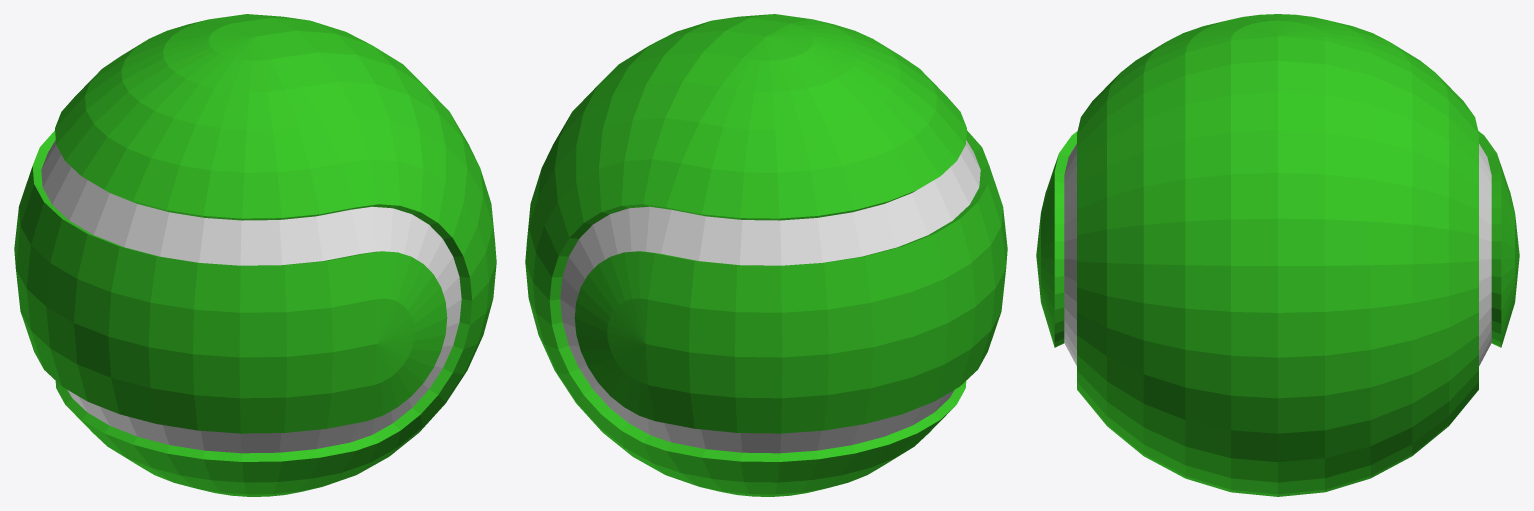
The model's file is Tennis_Ball4.fbx.
The picture shows the model from 3 angles, left to right: view 1: azimuth 30°, elevation 25°; view 2: azimuth 150°, elevation 25°; view 3: azimuth 270°, elevation 25°; orthographic projection.
Visible parts, largest first — view 1: Sphere.002; view 2: Sphere.002; view 3: Sphere.002.
Boxes of the visible parts, left/top/right/bottom form: Sphere.002: left=14, top=14, right=496, bottom=496; Sphere.002: left=525, top=14, right=1007, bottom=496; Sphere.002: left=1036, top=14, right=1519, bottom=496.
Size of the model in its own units: 200 by 200 by 200.
